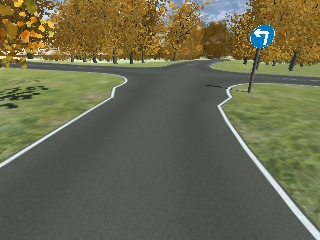left: (249, 25, 276, 47)
